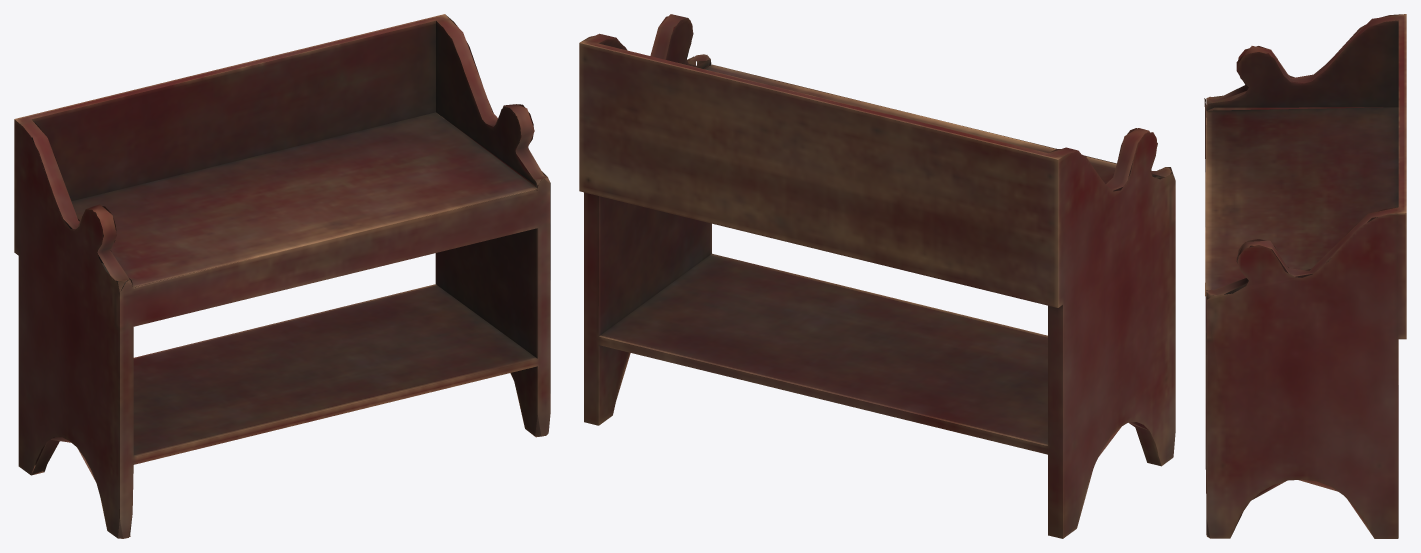
Rendered from Bench_Corridor.fbx.
The picture shows the model from 3 angles, left to right: view 1: azimuth 30°, elevation 25°; view 2: azimuth 150°, elevation 25°; view 3: azimuth 270°, elevation 25°; orthographic projection. The views are drawn at different scales.
Parts seen in each view (by area): view 1: хуй знает что это; view 2: хуй знает что это; view 3: хуй знает что это.
Boxes of the visible parts, x1=… form: хуй знает что это: x1=14, y1=14, x2=550, y2=538; хуй знает что это: x1=579, y1=14, x2=1175, y2=538; хуй знает что это: x1=1204, y1=14, x2=1406, y2=538.
Bounding box in the file's own units: 1.17 × 0.8901 × 0.4998.
Materials: 1 (1 with a texture image).
